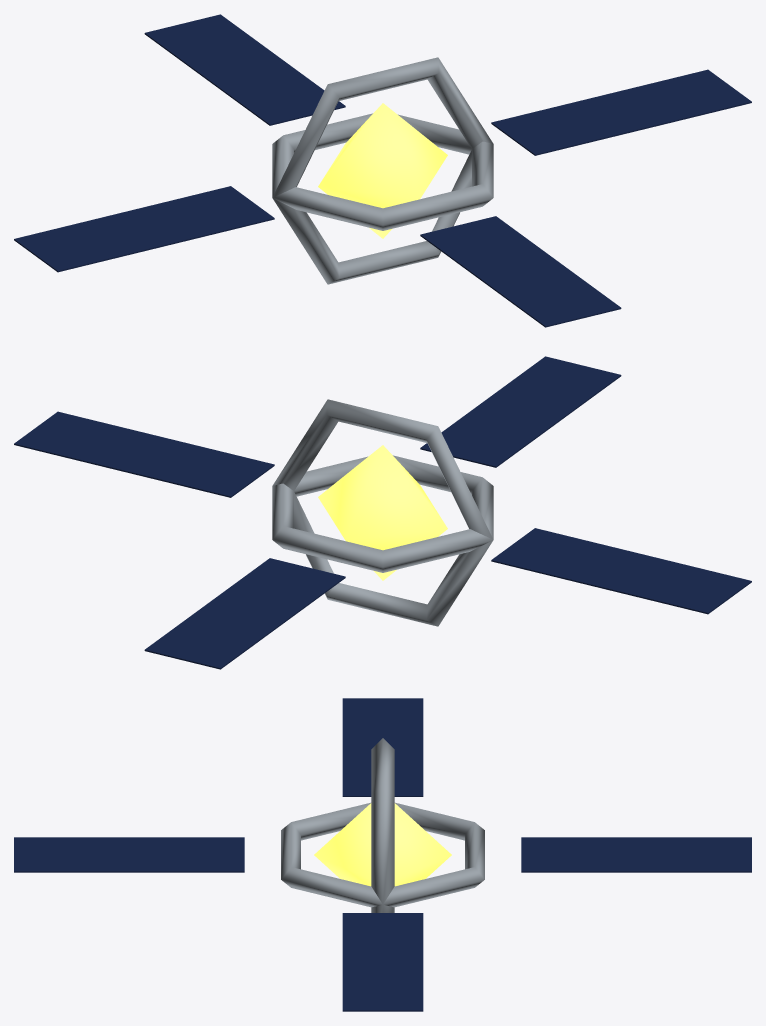
File: space_orbital_energy_t1_lod2.glb
The picture shows the model from 3 angles, top to bottom: view 1: azimuth 30°, elevation 25°; view 2: azimuth 150°, elevation 25°; view 3: azimuth 270°, elevation 25°; orthographic projection. The views are drawn at different scales.
Visible parts, largest first — view 1: body, solar_0, solar_2, solar_1, solar_3; view 2: body, solar_0, solar_2, solar_3, solar_1; view 3: body, solar_1, solar_3, solar_0, solar_2.
Boxes of the visible parts, x1,y1,x2,y2 form: body: (272, 57, 493, 284); solar_0: (491, 69, 751, 155); solar_2: (14, 186, 274, 272); solar_1: (420, 216, 621, 327); solar_3: (144, 14, 345, 125); body: (272, 399, 493, 626); solar_0: (14, 411, 274, 497); solar_2: (491, 528, 751, 614); solar_3: (144, 558, 345, 669); solar_1: (420, 356, 621, 467); body: (281, 738, 484, 912); solar_1: (14, 837, 244, 872); solar_3: (521, 837, 751, 872); solar_0: (342, 913, 423, 1011); solar_2: (342, 698, 423, 796).
Bounding box in the file's own units: 32 × 8.83 × 32.
